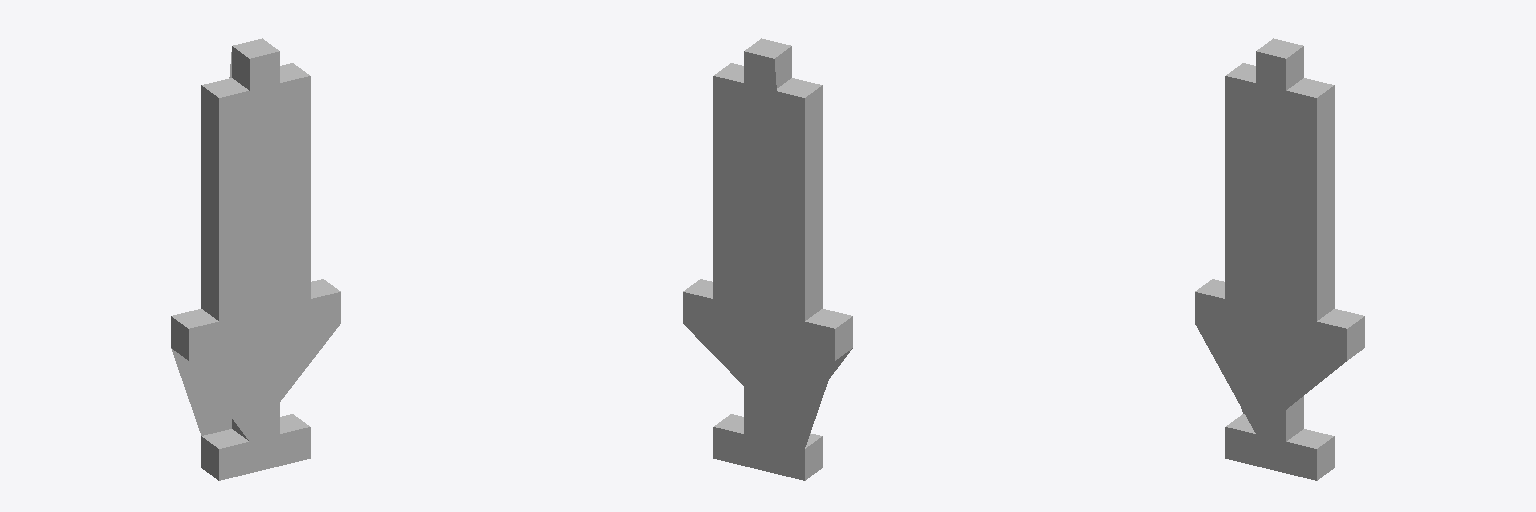
The model's file is Sword_2.obj.
3 renders of one model, left to right at view 1: azimuth 30°, elevation 25°; view 2: azimuth 150°, elevation 25°; view 3: azimuth 330°, elevation 25°, orthographic.
Visible parts, largest first — view 1: Sword_2_Sword_2.001; view 2: Sword_2_Sword_2.001; view 3: Sword_2_Sword_2.001.
Boxes of the visible parts, box(x1,y1,x2,y2) form: Sword_2_Sword_2.001: box(171, 38, 340, 480); Sword_2_Sword_2.001: box(683, 38, 852, 480); Sword_2_Sword_2.001: box(1195, 38, 1364, 480).
Size of the model in its own units: 0.5 by 1.3 by 0.1.